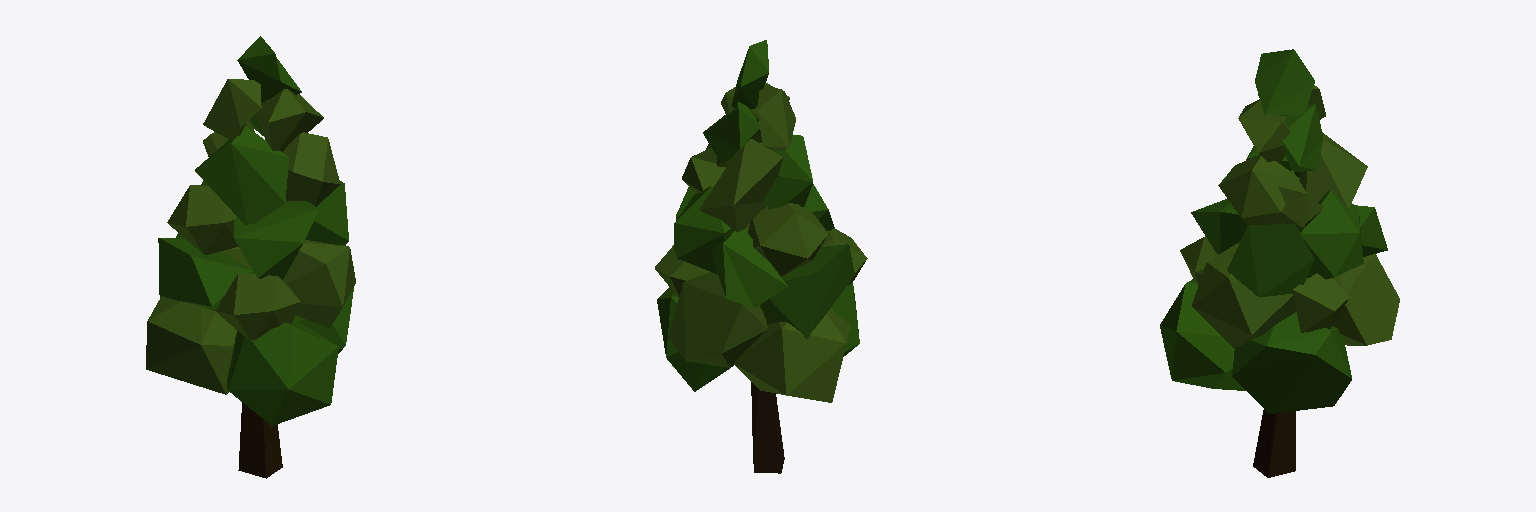
The model's file is LowLowPolyPoplar.obj.
The picture shows the model from 3 angles: view 1: azimuth 30°, elevation 25°; view 2: azimuth 150°, elevation 25°; view 3: azimuth 270°, elevation 25°; orthographic projection.
Visible parts, largest first — view 1: Poplar_Cylinder.003; view 2: Poplar_Cylinder.003; view 3: Poplar_Cylinder.003.
Boxes of the visible parts, x1,y1,x2,y2 form: Poplar_Cylinder.003: [146, 36, 355, 478]; Poplar_Cylinder.003: [655, 40, 867, 473]; Poplar_Cylinder.003: [1160, 49, 1399, 477].
Size of the model in its own units: 2.69 by 5.83 by 2.99.